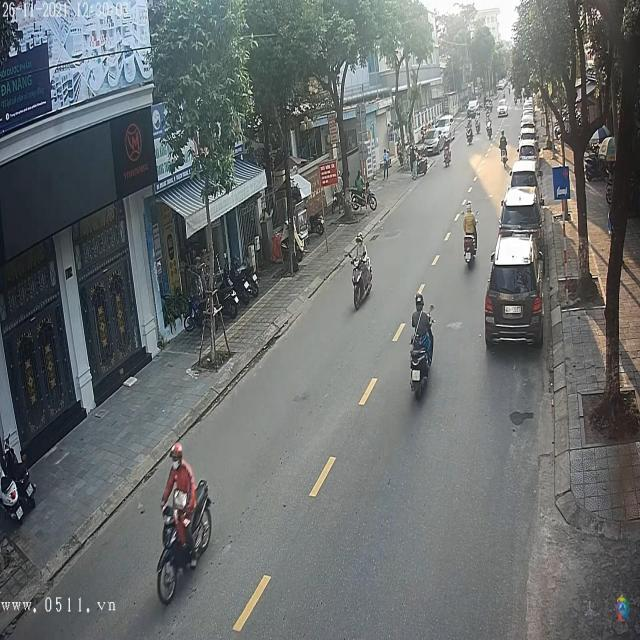car: (486, 230, 544, 348), (499, 190, 543, 238), (505, 160, 538, 200), (517, 144, 536, 162), (497, 102, 510, 115)
motorcycle: (154, 467, 214, 606), (408, 322, 436, 401), (352, 258, 376, 312), (464, 224, 481, 268), (442, 140, 453, 170)
